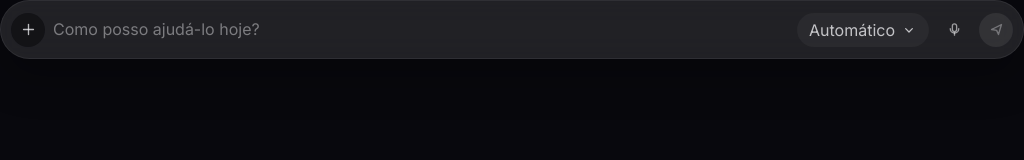
Test case: CommandInputPanel › não mostra backend/modelo ausente quando snapshot STT atual está pronto
The image size is (1024, 160).
Click the button named "Entrada por voz". click: (954, 30)
box: [937,13,971,47]
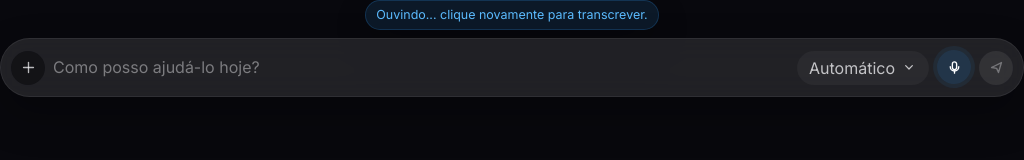
Click the button named "Parar transcrição de voz". click: (954, 67)
box: [937,50,971,84]
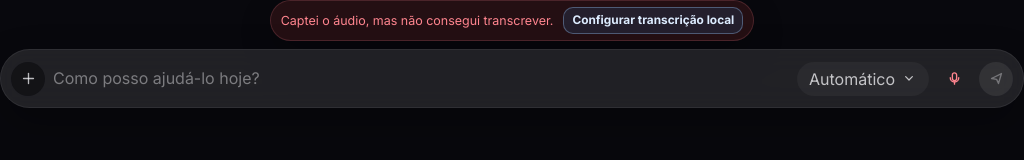
expect the message shows "Captei o áudio, mas não consegui transcrever.": met, box [281,13,553,28]
